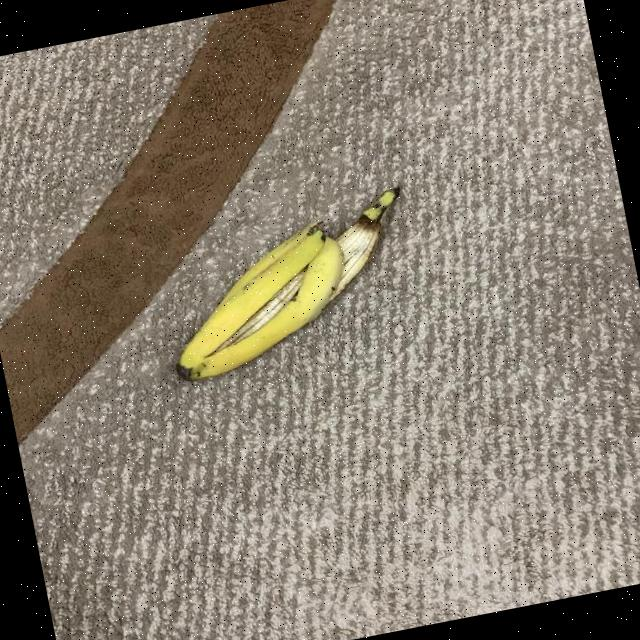banana-peel: (149, 183, 429, 385)
